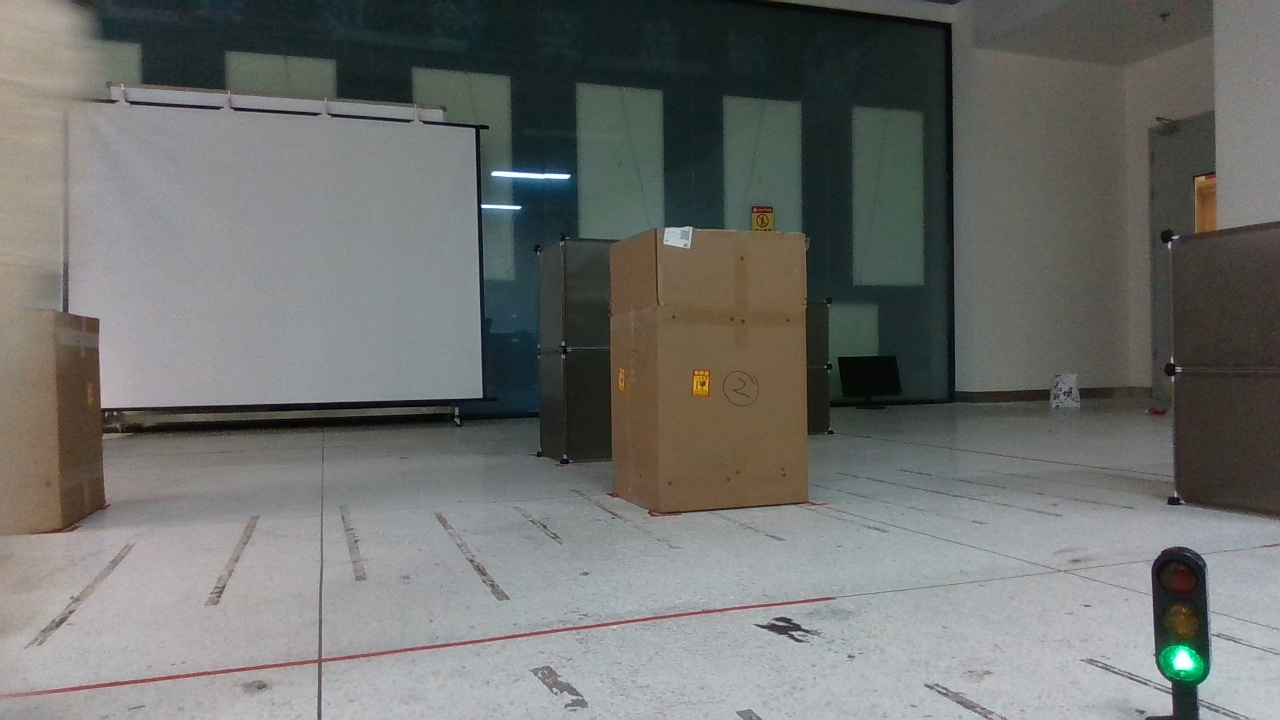green_light: (1123, 538, 1243, 715)
